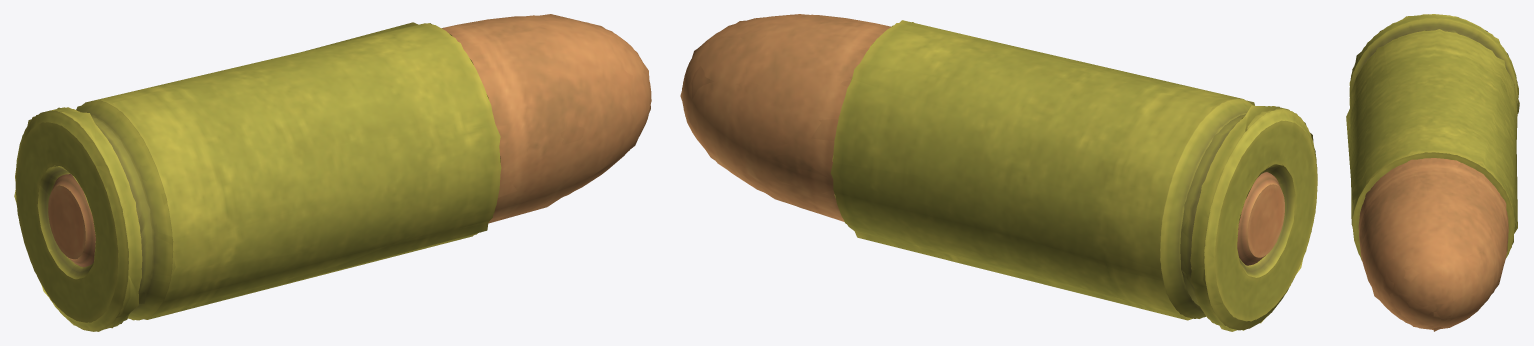
3 views of the same model, side by side, from view 1: azimuth 30°, elevation 25°; view 2: azimuth 150°, elevation 25°; view 3: azimuth 270°, elevation 25° (orthographic). The views are drawn at different scales.
Visible parts, largest first — view 1: v, v.002, v.001; view 2: v, v.002, v.001; view 3: v, v.001, v.002.
Part boxes in pixels (box(x1,y1,x2,y2)): v: box(15, 16, 651, 331); v.002: box(14, 14, 650, 331); v.001: box(15, 15, 651, 331); v: box(682, 14, 1317, 330); v.002: box(680, 14, 1317, 331); v.001: box(682, 14, 1315, 330); v: box(1349, 14, 1517, 329); v.001: box(1349, 14, 1518, 329); v.002: box(1346, 14, 1519, 331).
Size of the model in its own units: 2.92 by 1.04 by 1.03.
Materials: 3 (3 with a texture image).
